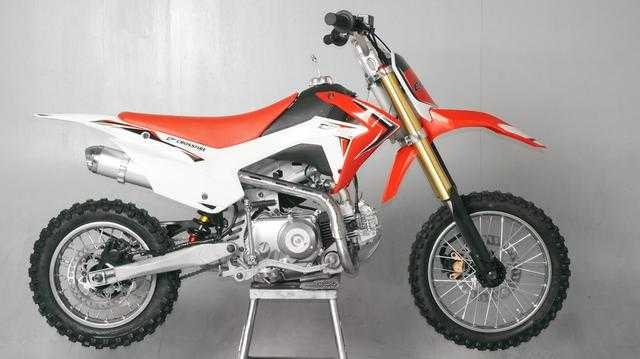motorcycle: (29, 7, 570, 352)
